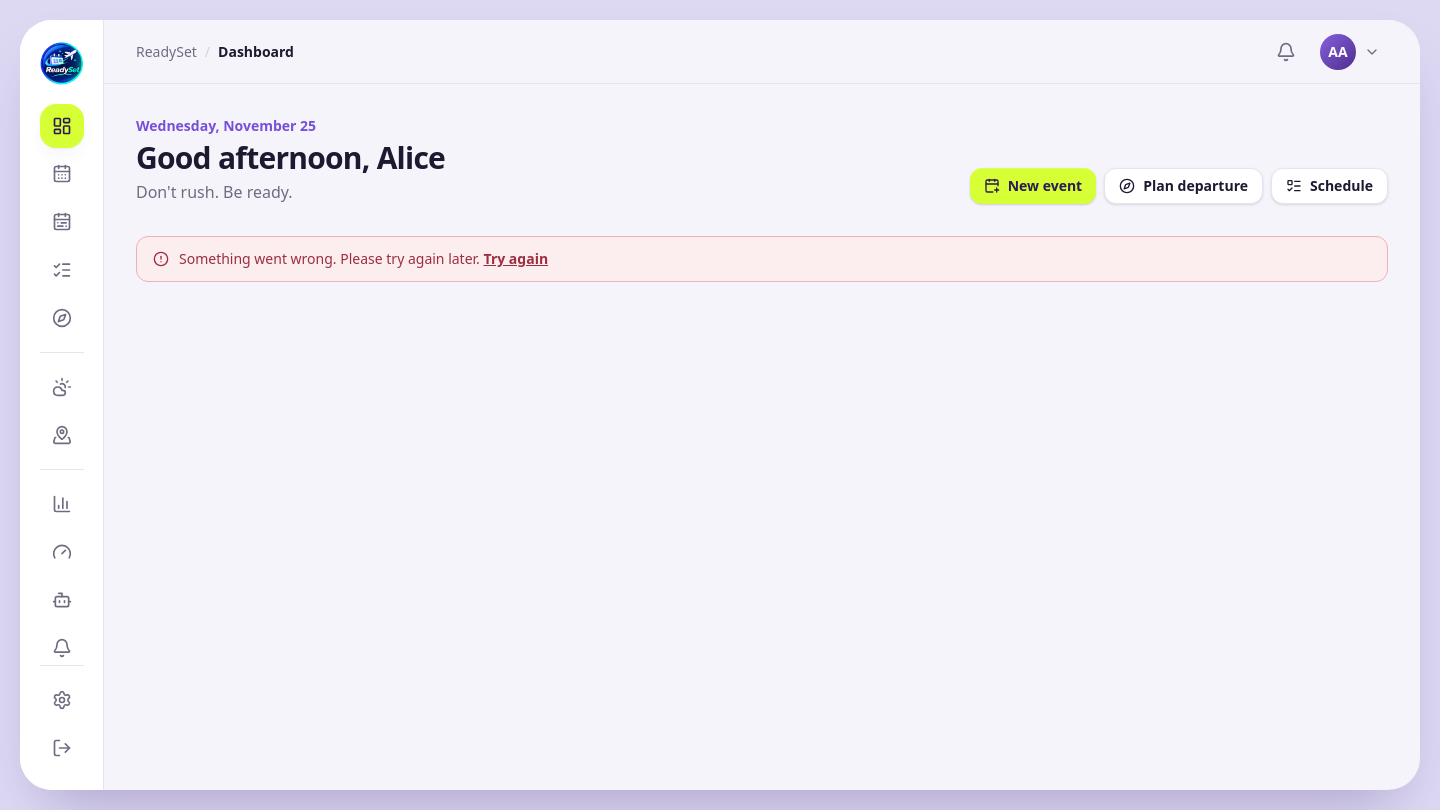
Test: Dashboard: Next Departure from the backend engine › shows an error with retry when the departure engine request fails, then recovers
The width and height of the screenshot is (1440, 810).
Expected: the message shows "Something went wrong", [179,249,480,268]
Click the button "Try again".
click(516, 259)  # box [484,249,548,269]
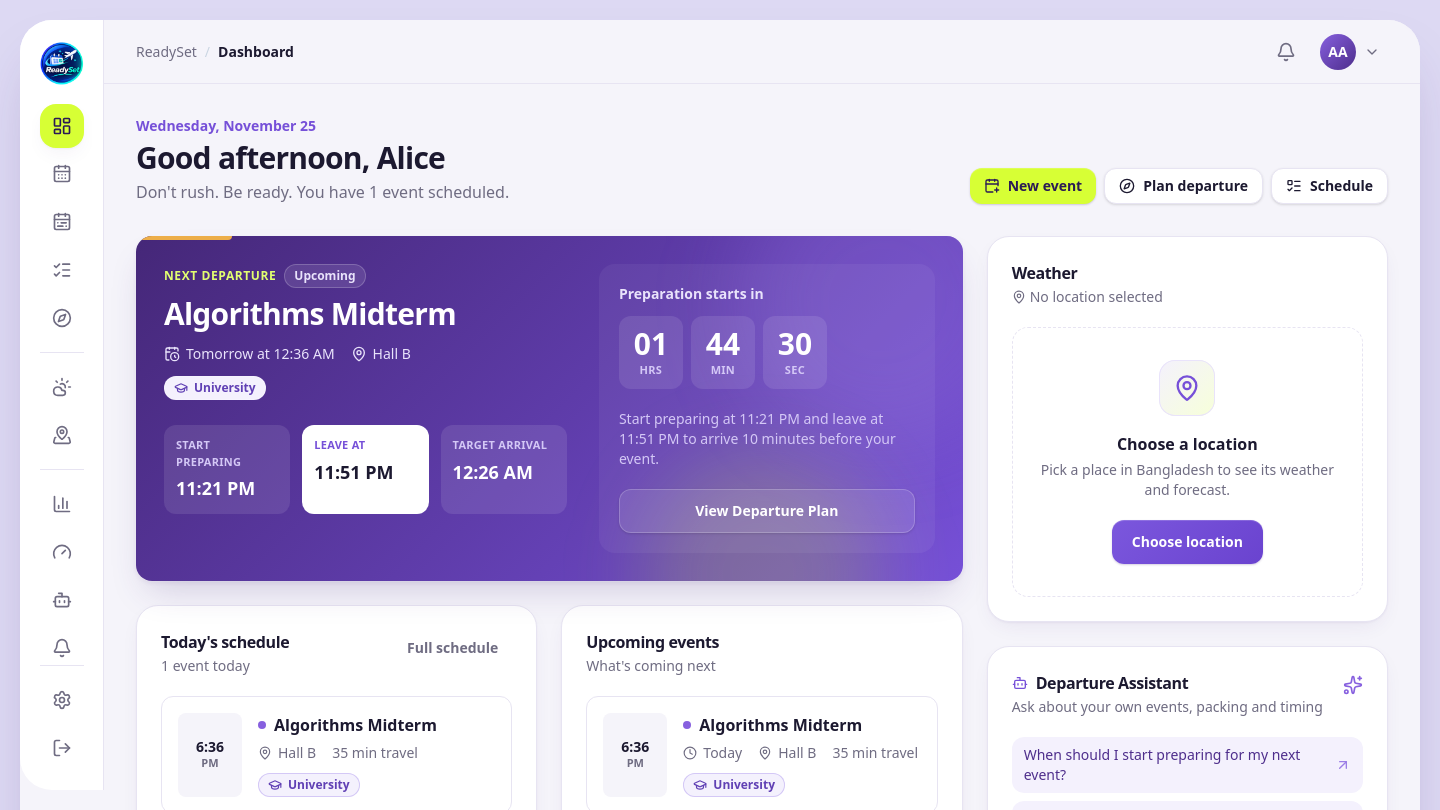
Now the element "Next departure" is shown, box [136,236,963,580]
